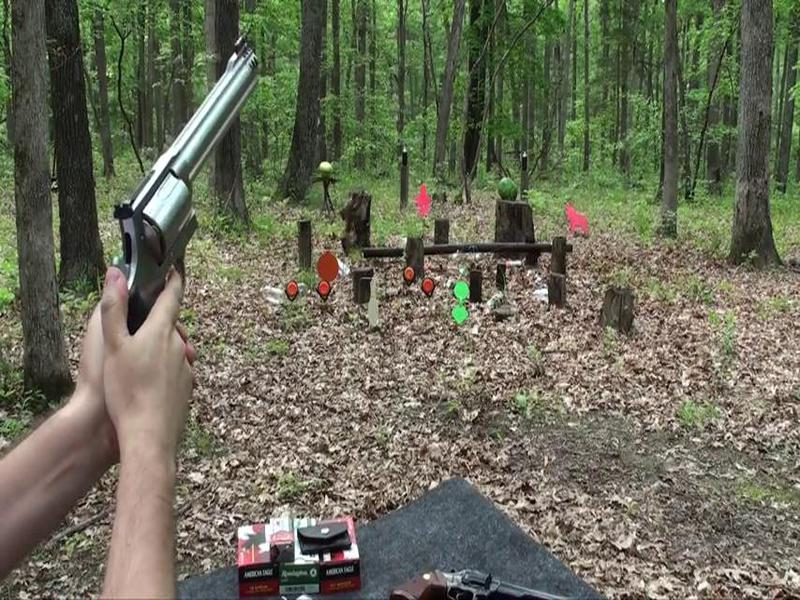Revolver: (94, 26, 268, 328)
